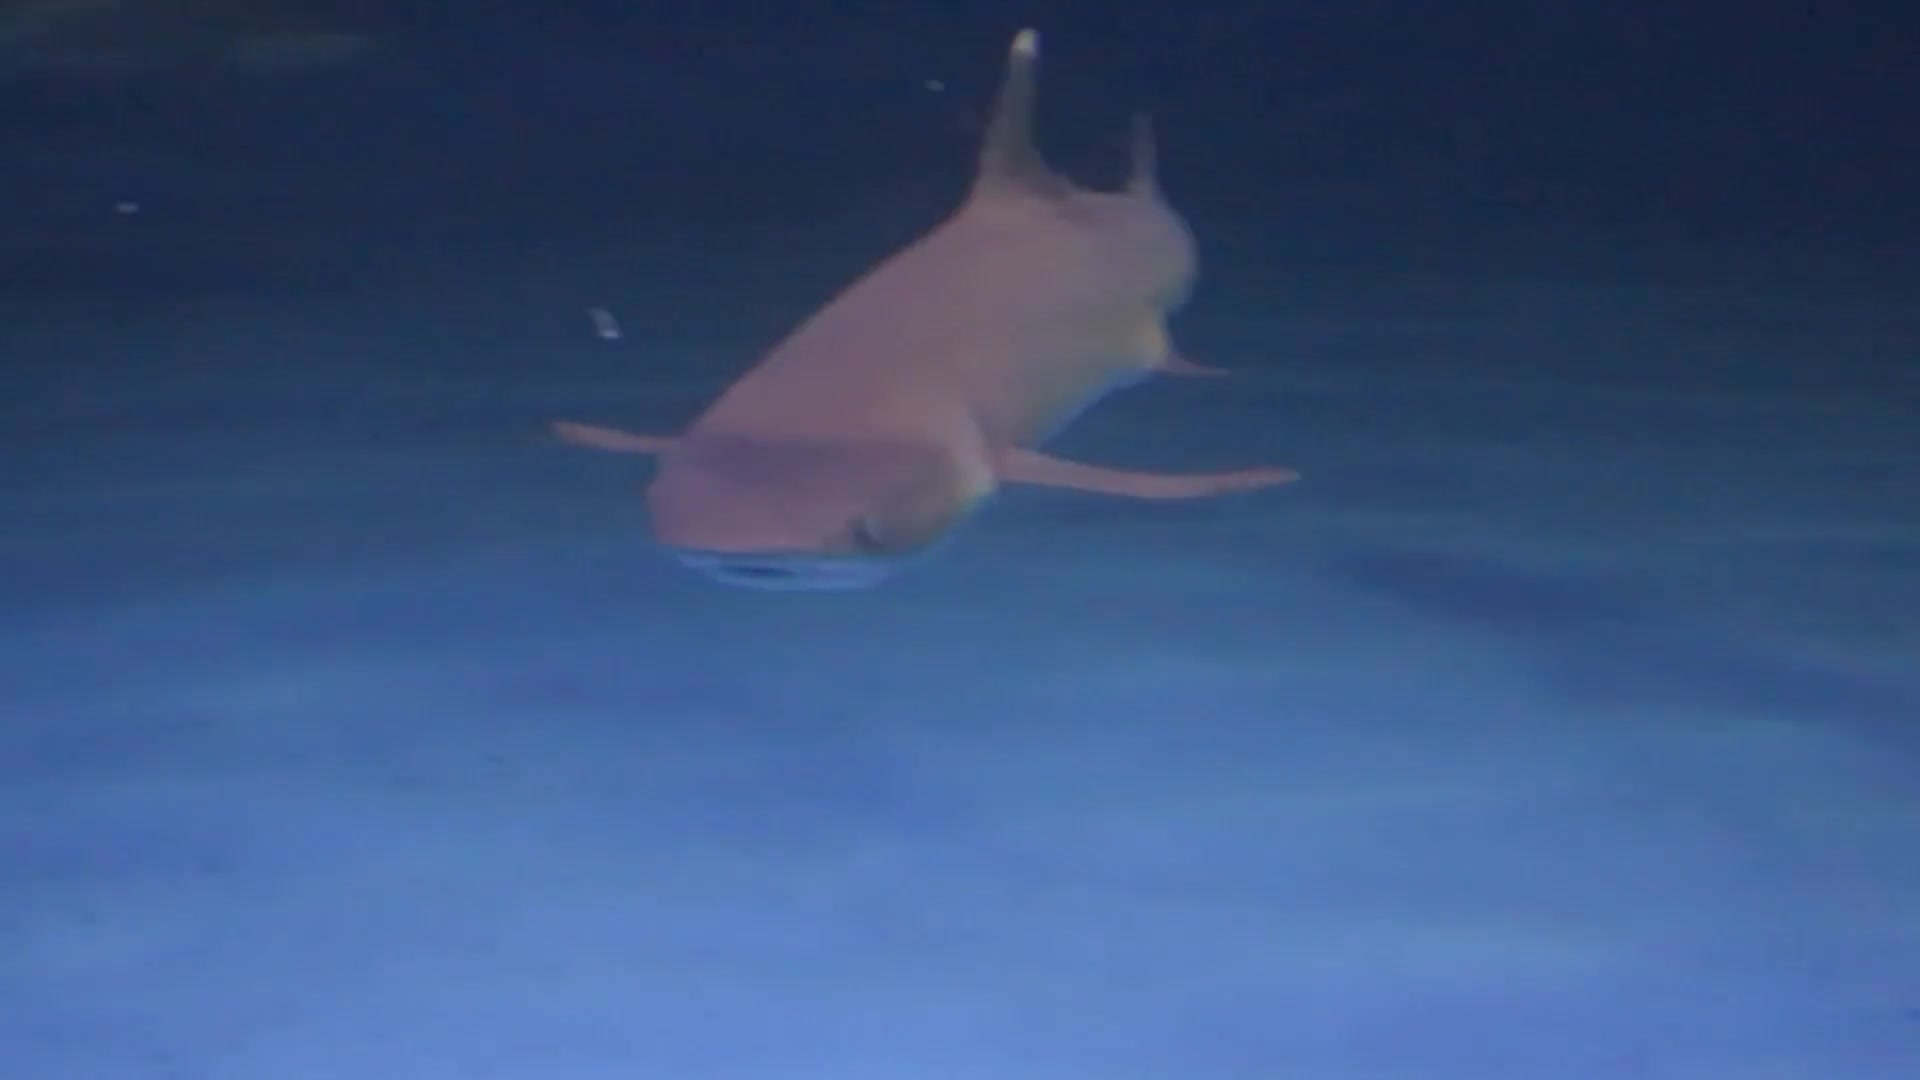Triaenodon obesus: (460, 7, 1327, 640)
